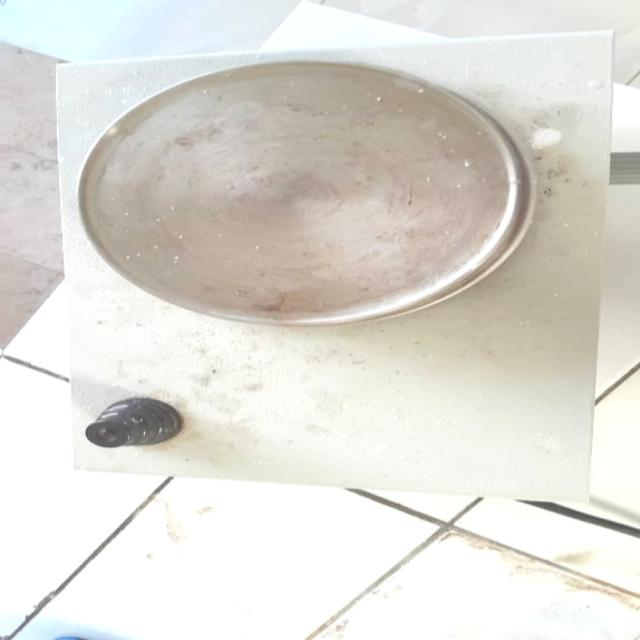Magnetic Stirrer: (46, 34, 634, 487)
